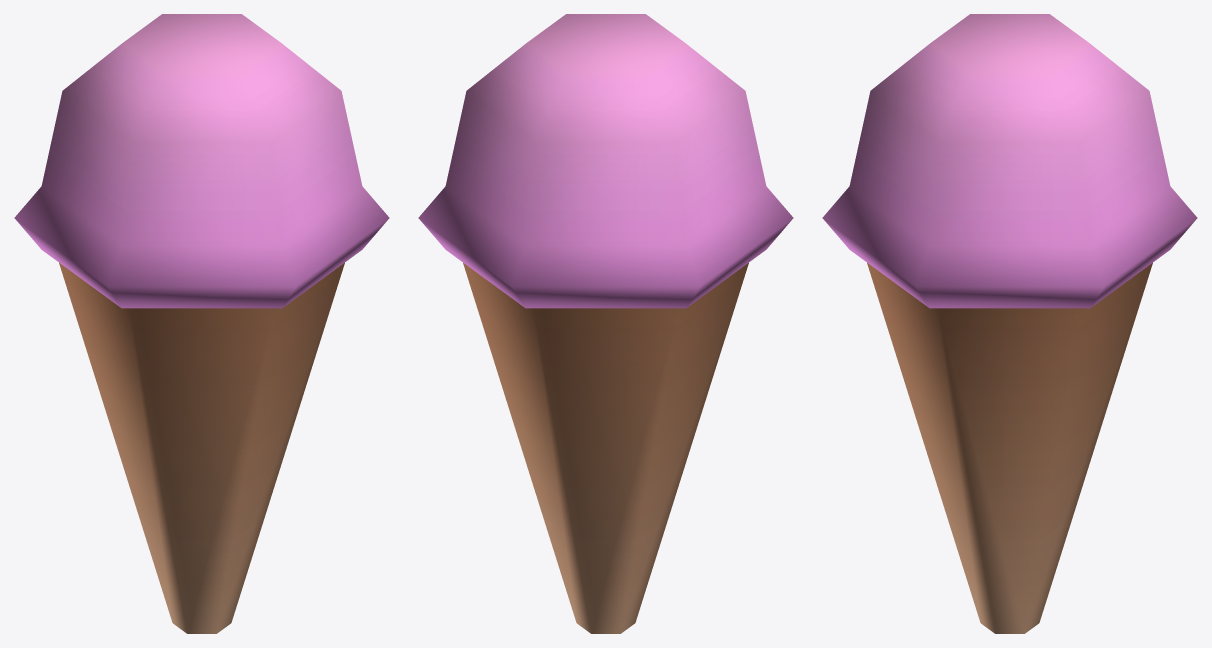
The model's file is food.ice_cream.glb.
3 renders of one model, left to right at view 1: azimuth 30°, elevation 25°; view 2: azimuth 150°, elevation 25°; view 3: azimuth 270°, elevation 25°, orthographic.
Visible parts, largest first — view 1: Group, ice-cream; view 2: Group, ice-cream; view 3: Group, ice-cream.
Boxes of the visible parts, left/top/right/bottom form: Group: left=14, top=14, right=389, bottom=308; ice-cream: left=59, top=263, right=344, bottom=633; Group: left=418, top=14, right=793, bottom=308; ice-cream: left=463, top=263, right=748, bottom=633; Group: left=822, top=14, right=1197, bottom=308; ice-cream: left=867, top=263, right=1152, bottom=633.
Bounding box in the file's own units: 0.0699 × 0.1376 × 0.0807.
1 material, 1 textured.
